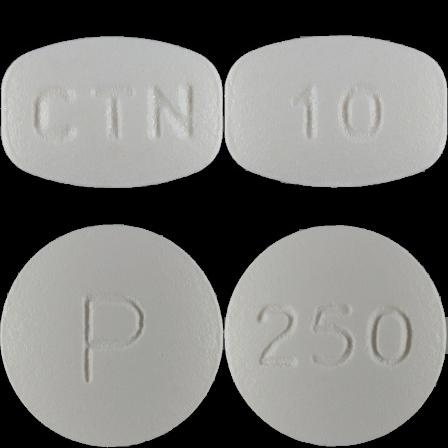33261-393: (0, 0, 224, 224)
